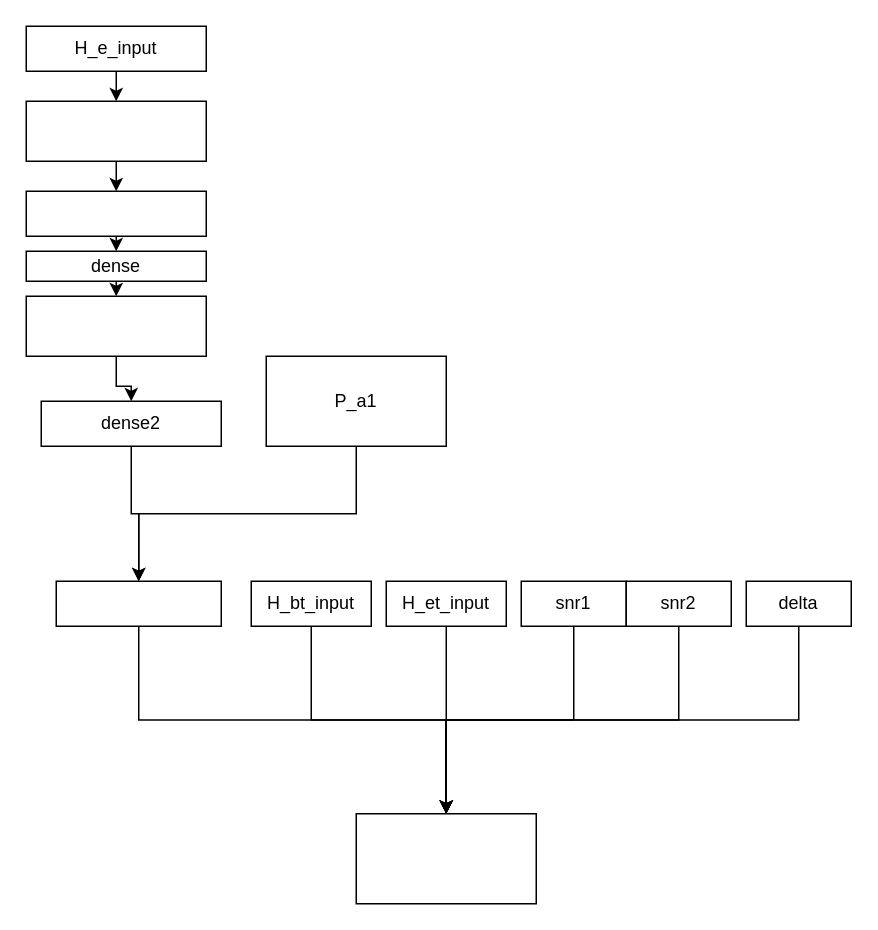
The diagram is 878 pixels wide and 930 high, and some of its shapes have lost their labels. Each missing label, with the centre of its shape:
batch_normalization: point 115,130
dense1: point 115,325
flatten: point 115,213
lamda: point 138,603
lamda_1: point 445,858
